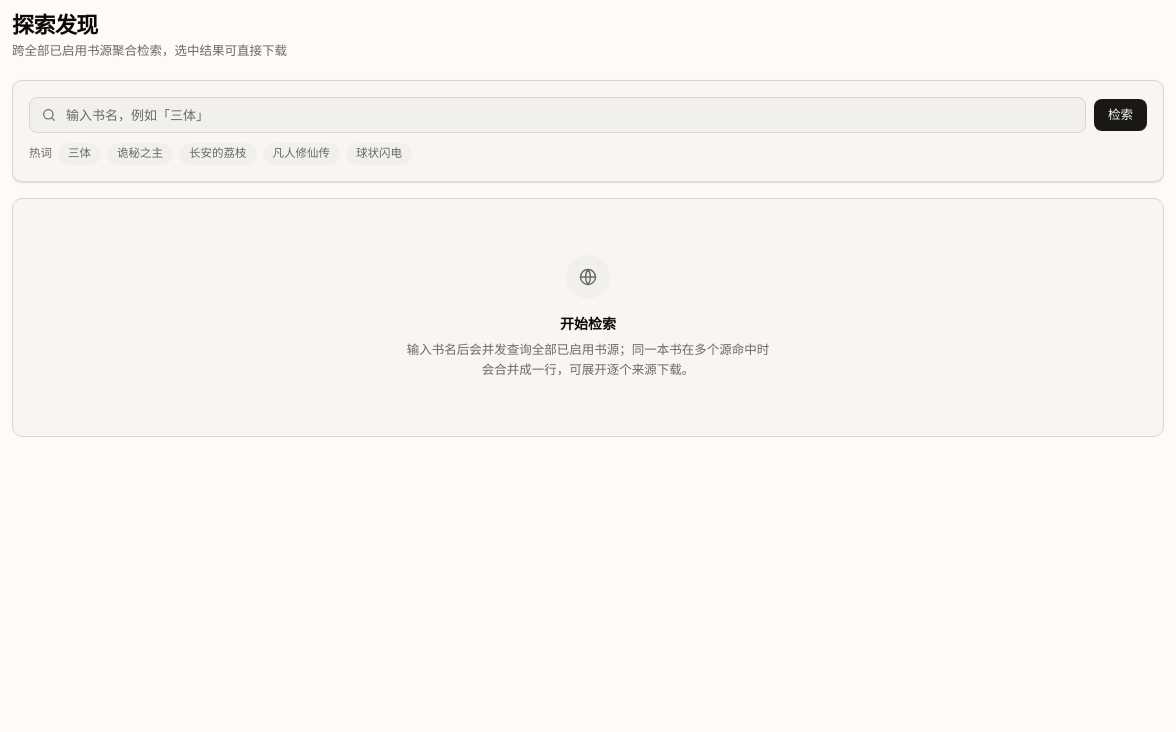
Test case: ExploreView · 同名合并（一书一行） › 同名不同作者不合并（宁可不并，也不把两本书并成一本）
Type "三体" into the field named "搜索书名".
click(558, 115); type("三体")  # box left=29, top=97, right=1086, bottom=133
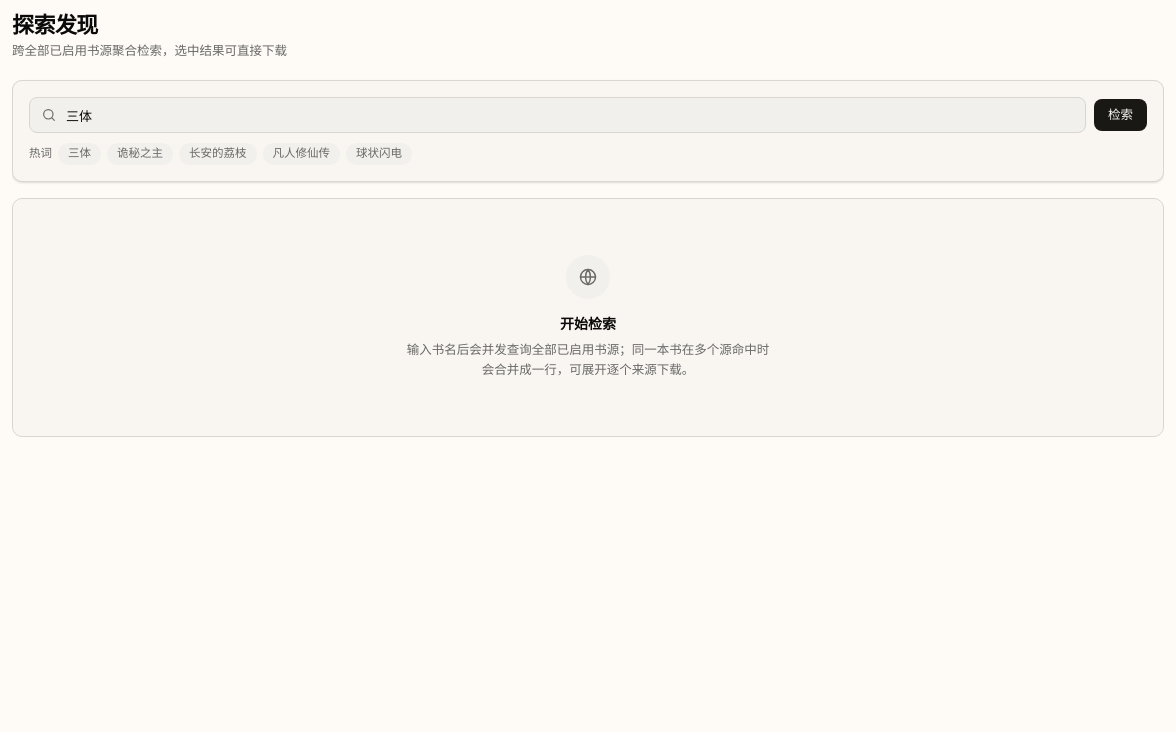
Click the button "检索".
click(1120, 115)  # box left=1094, top=99, right=1147, bottom=131
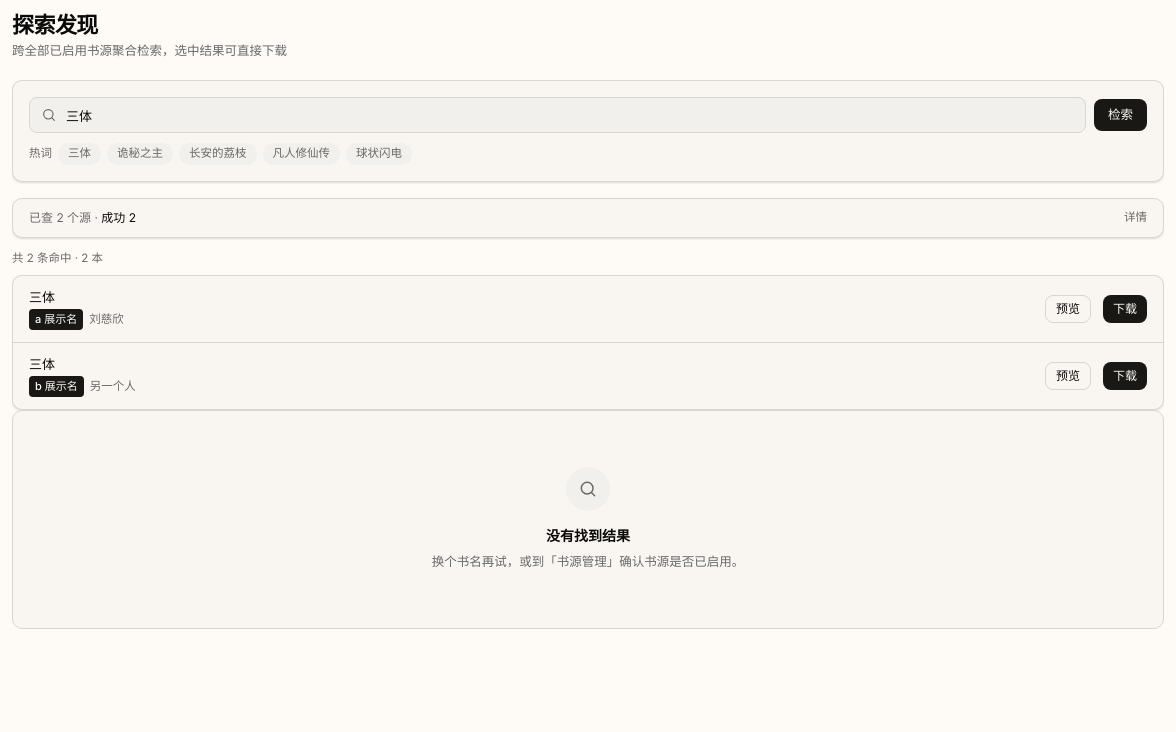
Expected: the text "共 2 条命中 · 2 本" is shown, left=12, top=250, right=103, bottom=264
